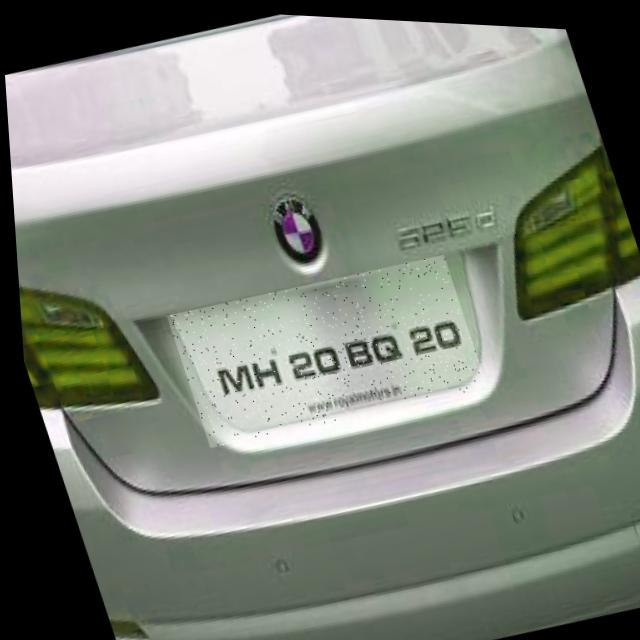license_plate: (158, 238, 486, 457)
